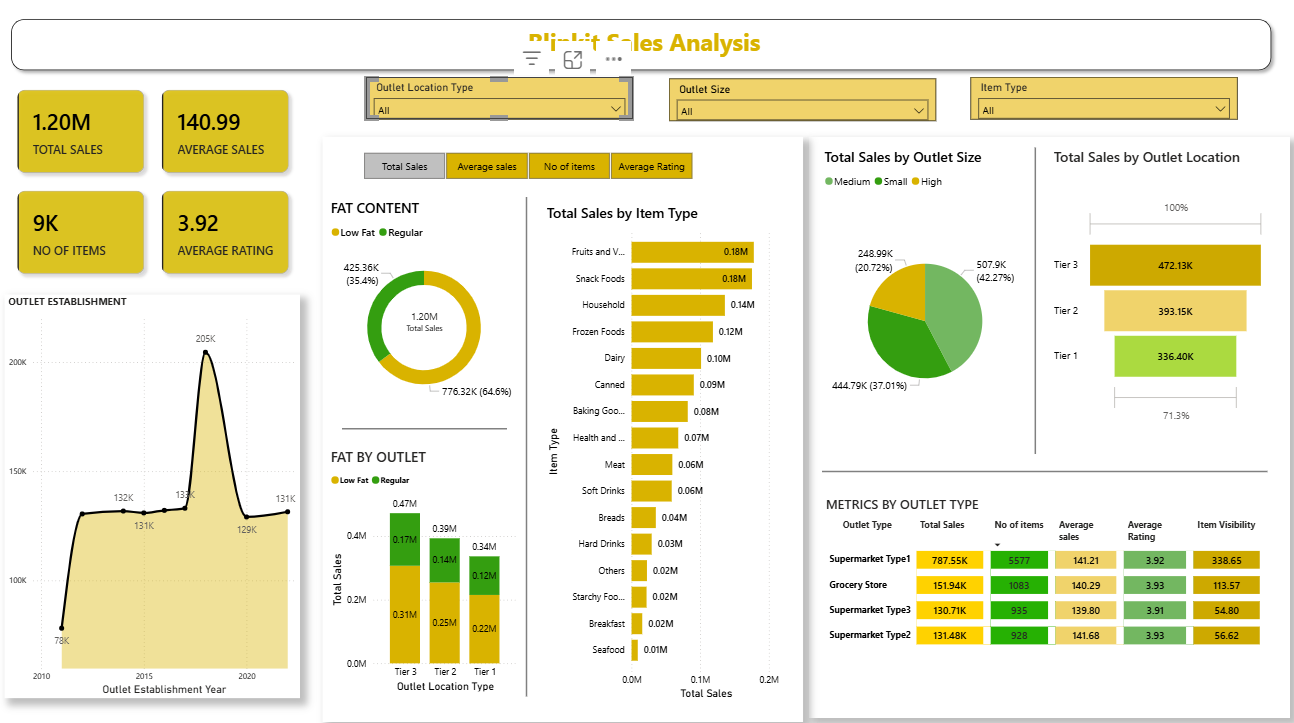

The dashboard page shown, as its layout file describes it:
{"tool":"powerbi","page":{"name":"Page 1","canvas":[1800,1000],"ordinal":0},"visuals":[{"type":"shape","box":[46.5,410.4,398.3,543.8],"z":0},{"type":"shape","box":[474.8,198,647.3,787.9],"z":1000},{"type":"shape","box":[1130.7,198,649.5,783.6],"z":2000},{"type":"shape","box":[46.8,144.8,398.2,255.5],"z":3000},{"type":"shape","box":[46.5,30.3,1716.3,86.9],"z":4000},{"type":"textbox","box":[76.7,42.6,1663,57.5],"z":5000},{"type":"cardVisual","fields":{"Data":["BlinkIT Grocery Data.Total Sales","BlinkIT Grocery Data.Average sales","BlinkIT Grocery Data.No of items","BlinkIT Grocery Data.Average Rating"]},"box":[46.8,117.1,400.3,283.2],"z":6000},{"type":"donutChart","title":" FAT CONTENT","fields":{"Y":["BlinkIT Grocery Data.Total Sales"],"Category":["BlinkIT Grocery Data.Item Fat Content"]},"box":[481.1,281,260.8,293.1],"z":7000},{"type":"slicer","fields":{"Values":["Metrics.Metrics"]},"box":[504.7,212.9,491.9,49],"z":8000},{"type":"cardVisual","fields":{"Data":["BlinkIT Grocery Data.Total Sales"]},"box":[558,418.5,109.2,54.6],"z":9000},{"type":"columnChart","title":"FAT BY OUTLET","fields":{"Y":["BlinkIT Grocery Data.Total Sales"],"Category":["BlinkIT Grocery Data.Outlet Location Type"],"Series":["BlinkIT Grocery Data.Item Fat Content"]},"box":[481.1,616.6,260.8,333.6],"z":10000},{"type":"shape","box":[501.4,580.2,222.4,22.2],"z":11000},{"type":"shape","box":[741.9,279,16.2,673.2],"z":12000},{"type":"barChart","fields":{"Y":["BlinkIT Grocery Data.Total Sales"],"Category":["BlinkIT Grocery Data.Item Type"]},"box":[772.3,287.1,339.6,673.2],"z":13000},{"type":"lineChart","title":"OUTLET ESTABLISHMENT","fields":{"Category":["BlinkIT Grocery Data.Outlet Establishment Year"],"Y":["BlinkIT Grocery Data.Total Sales"]},"box":[46.5,410.4,398.3,543.8],"z":14000},{"type":"pieChart","fields":{"Category":["BlinkIT Grocery Data.Outlet Size"],"Y":["BlinkIT Grocery Data.Total Sales"]},"box":[1145.6,212.9,281.1,413.1],"z":15000},{"type":"funnel","title":"Total Sales by Outlet Location","fields":{"Category":["BlinkIT Grocery Data.Outlet Location Type"],"Y":["BlinkIT Grocery Data.Total Sales"]},"box":[1456.5,212.9,293.9,413.1],"z":16000},{"type":"shape","box":[1426.7,212.9,17,413.1],"z":17000},{"type":"shape","box":[1148.3,616.6,600.4,64.7],"z":18000},{"type":"pivotTable","title":"METRICS BY OUTLET TYPE","fields":{"Rows":["BlinkIT Grocery Data.Outlet Type"],"Values":["BlinkIT Grocery Data.Total Sales","BlinkIT Grocery Data.No of items","BlinkIT Grocery Data.Average sales","BlinkIT Grocery Data.Average Rating","Sum(BlinkIT Grocery Data.Item Visibility)"]},"box":[1148.3,681.3,614.6,281],"z":19000},{"type":"slicer","fields":{"Values":["BlinkIT Grocery Data.Outlet Location Type"]},"box":[534.5,117.1,359.9,57.5],"z":20000},{"type":"slicer","fields":{"Values":["BlinkIT Grocery Data.Outlet Size"]},"box":[941.2,119.2,359.9,57.5],"z":21000},{"type":"slicer","fields":{"Values":["BlinkIT Grocery Data.Item Type"]},"box":[1347.9,117.1,359.9,57.5],"z":22000}]}

Visuals, with their boxes on the page's 1800x1000 design canvas (x1, y1, x2, y2). These are canvas units, not pixel positions in the 1294x723 screenshot, which may show the page scaled, cropped or inside an application window:
shape: 46, 410, 445, 954
shape: 475, 198, 1122, 986
shape: 1131, 198, 1780, 982
shape: 47, 145, 445, 400
shape: 46, 30, 1763, 117
textbox: 77, 43, 1740, 100
cardVisual - BlinkIT Grocery Data.Total Sales x BlinkIT Grocery Data.Average sales: 47, 117, 447, 400
" FAT CONTENT" donutChart: 481, 281, 742, 574
slicer - Metrics.Metrics: 505, 213, 997, 262
cardVisual - BlinkIT Grocery Data.Total Sales: 558, 418, 667, 473
"FAT BY OUTLET" columnChart: 481, 617, 742, 950
shape: 501, 580, 724, 602
shape: 742, 279, 758, 952
barChart - BlinkIT Grocery Data.Total Sales x BlinkIT Grocery Data.Item Type: 772, 287, 1112, 960
"OUTLET ESTABLISHMENT" lineChart: 46, 410, 445, 954
pieChart - BlinkIT Grocery Data.Outlet Size x BlinkIT Grocery Data.Total Sales: 1146, 213, 1427, 626
"Total Sales by Outlet Location" funnel: 1456, 213, 1750, 626
shape: 1427, 213, 1444, 626
shape: 1148, 617, 1749, 681
"METRICS BY OUTLET TYPE" pivotTable: 1148, 681, 1763, 962
slicer - BlinkIT Grocery Data.Outlet Location Type: 534, 117, 894, 175
slicer - BlinkIT Grocery Data.Outlet Size: 941, 119, 1301, 177
slicer - BlinkIT Grocery Data.Item Type: 1348, 117, 1708, 175
